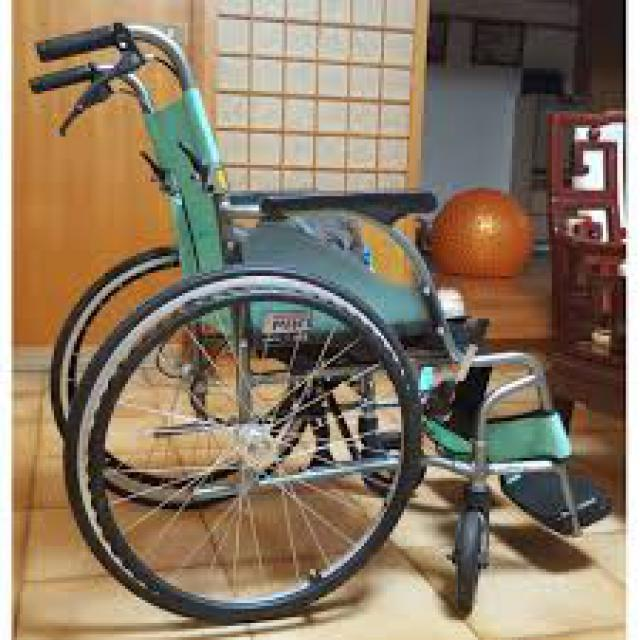wheelchair: (22, 22, 618, 618)
